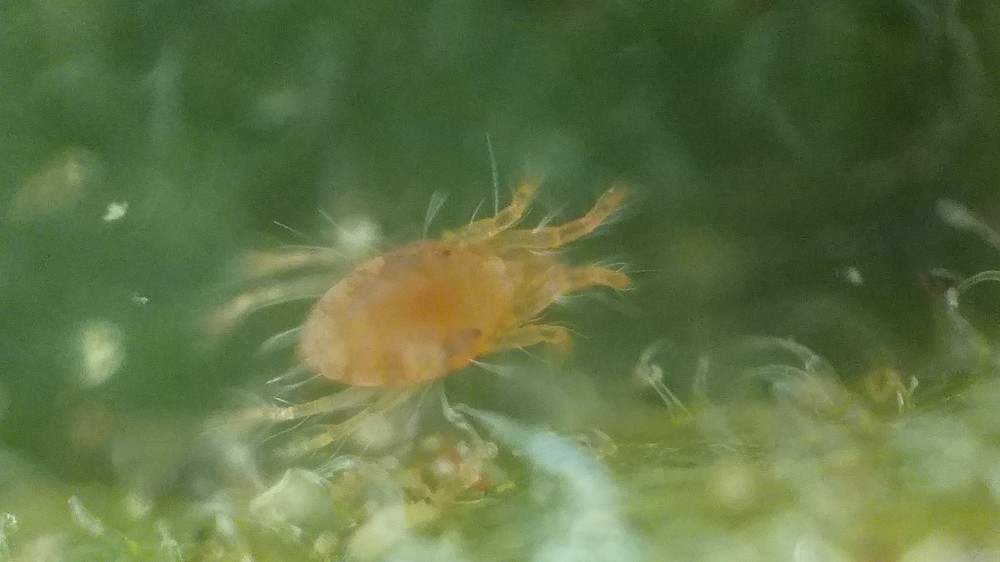Aracnido Rojo: (221, 159, 654, 456)
